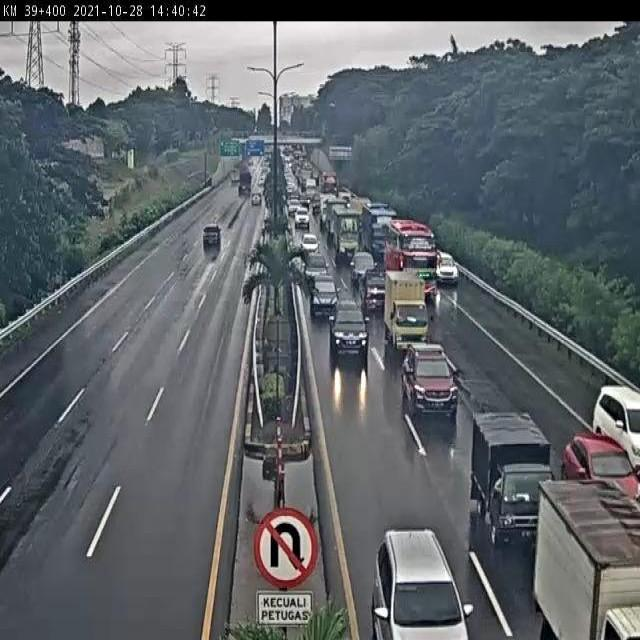bus-l-: (383, 220, 437, 297)
car: (560, 432, 640, 512), (593, 386, 640, 474), (401, 342, 458, 414), (330, 293, 368, 356), (310, 274, 335, 314), (361, 271, 385, 308), (351, 252, 376, 285), (436, 249, 458, 284), (200, 222, 224, 250), (304, 251, 328, 276)
truck-s-: (471, 412, 553, 547), (384, 272, 430, 351)
